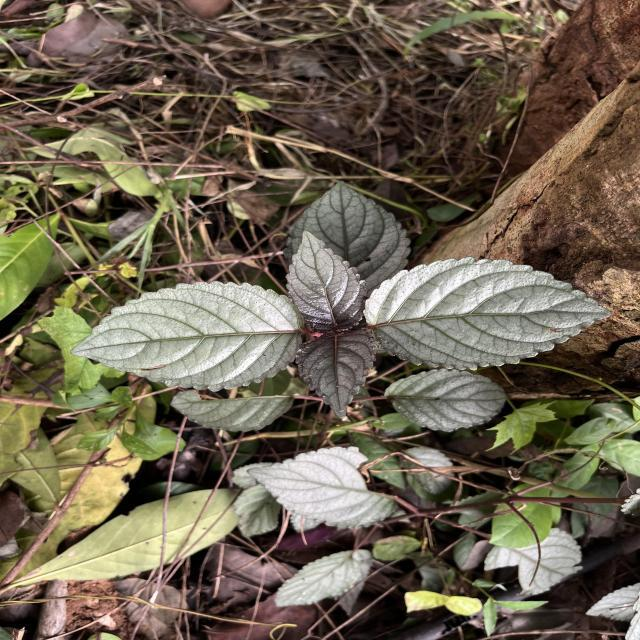Hemigraphis colorata: (360, 254, 616, 372), (67, 279, 311, 394), (283, 225, 372, 335), (380, 362, 510, 435), (292, 326, 380, 421)
